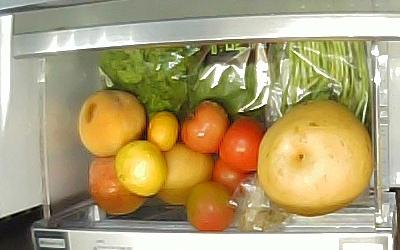peach: (78, 89, 146, 158), (89, 157, 147, 214)
pear: (257, 99, 373, 217), (154, 140, 213, 205)
tangerine: (115, 140, 167, 196), (146, 111, 178, 151)
tomato: (187, 178, 238, 231), (182, 98, 229, 155), (220, 119, 263, 170), (212, 157, 244, 193)
